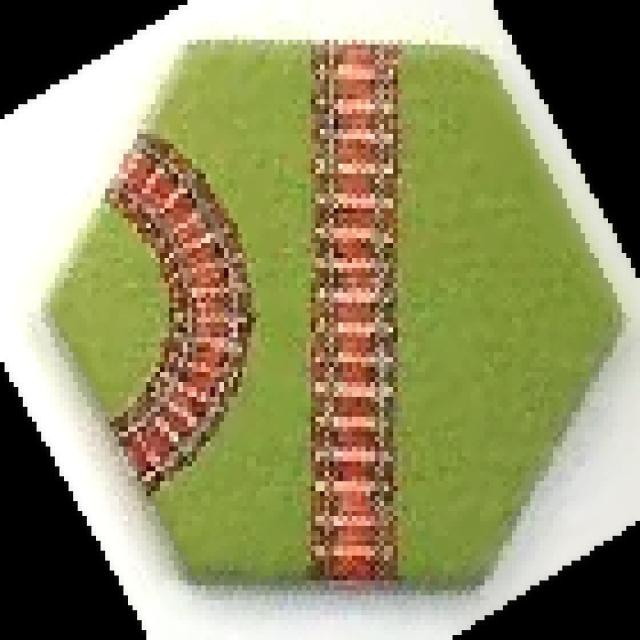4_5: (43, 39, 628, 593)
